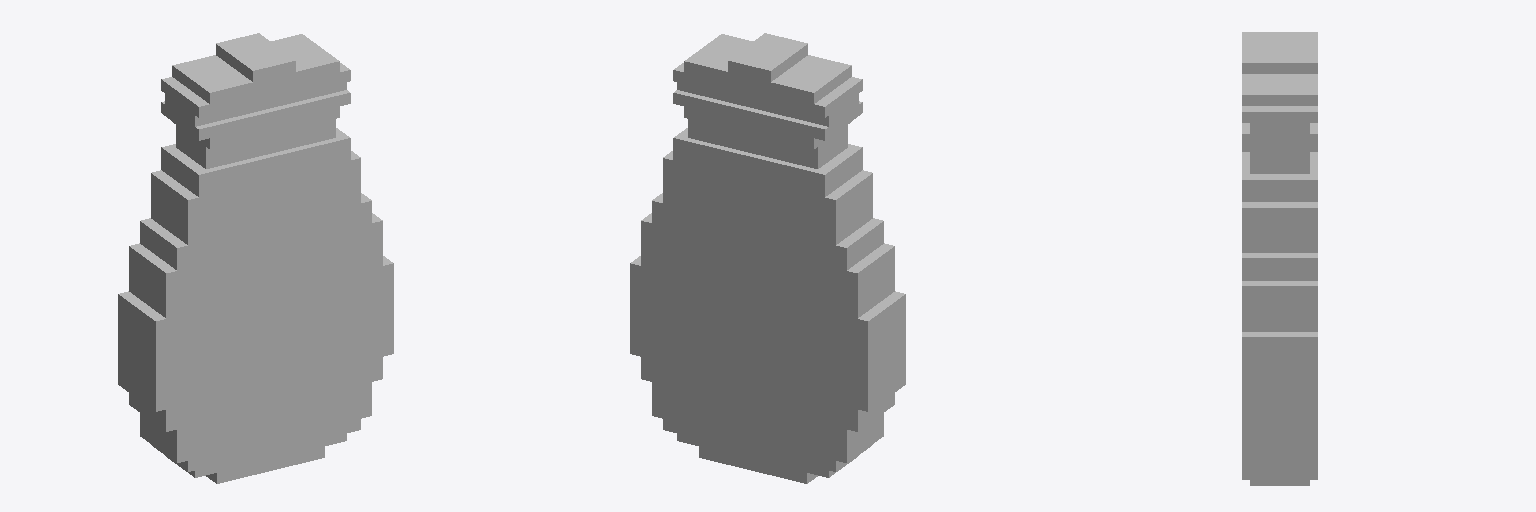
Rendered from Urn1.obj.
3 renders of one model, left to right at view 1: azimuth 30°, elevation 25°; view 2: azimuth 150°, elevation 25°; view 3: azimuth 270°, elevation 25°, orthographic.
Bounding box in the file's own units: 22 × 36 × 6.